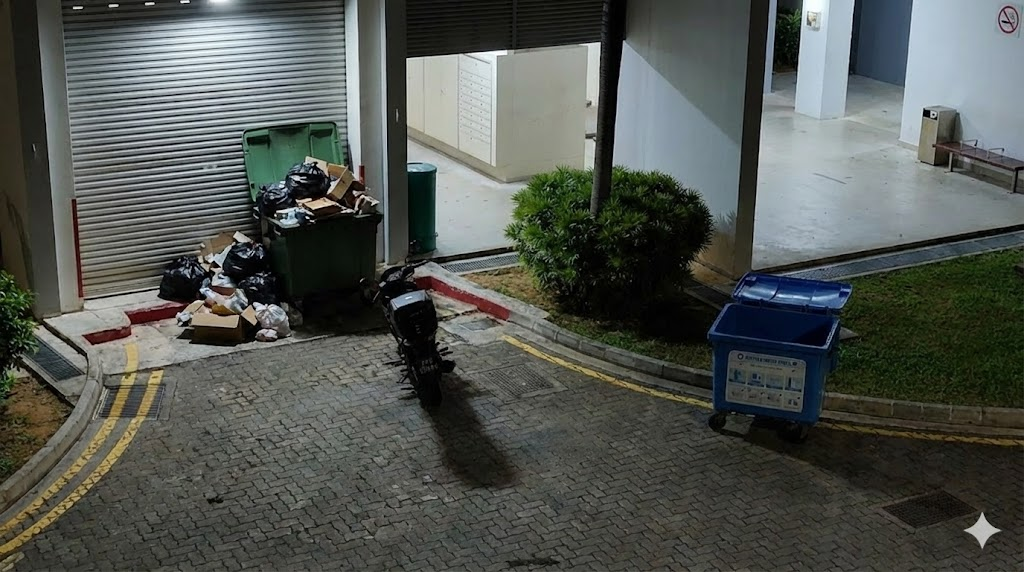bin_empty: (708, 272, 852, 441), (408, 162, 436, 254), (918, 106, 957, 165)
bin_full: (242, 121, 382, 303)
bulk_waste: (185, 287, 258, 343)
normal_waste: (158, 256, 207, 300), (221, 242, 268, 281), (200, 232, 248, 266), (238, 272, 277, 303), (253, 303, 289, 335)
vehicle: (361, 261, 454, 405)
